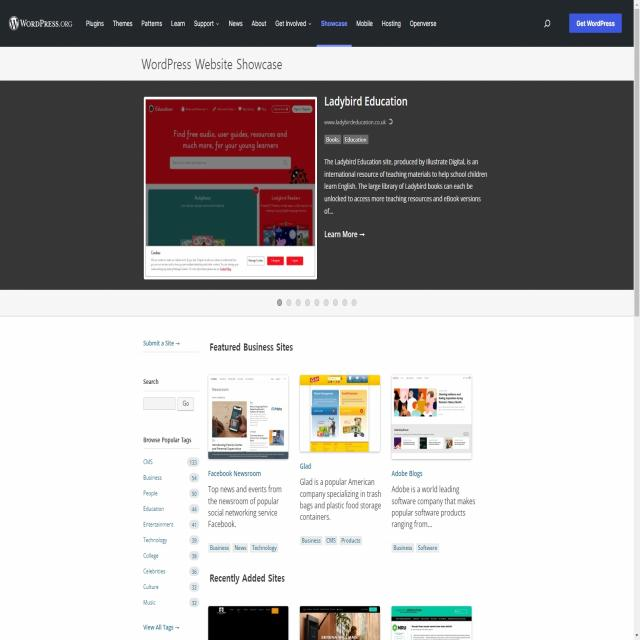menu-bar: (81, 9, 441, 48), (536, 5, 626, 39)
